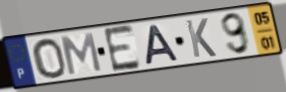9: (219, 11, 252, 56)
A: (144, 23, 181, 67)
E: (101, 23, 143, 75)
K: (183, 17, 219, 60)
M: (59, 31, 104, 77)
O: (30, 37, 69, 80)
